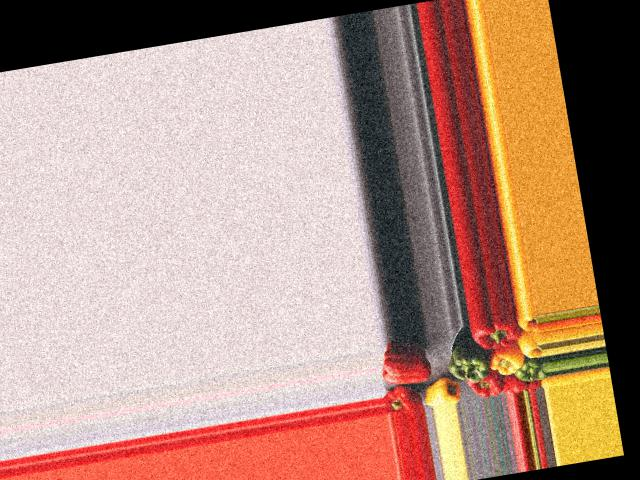bell_pepper: (381, 383, 423, 412)
